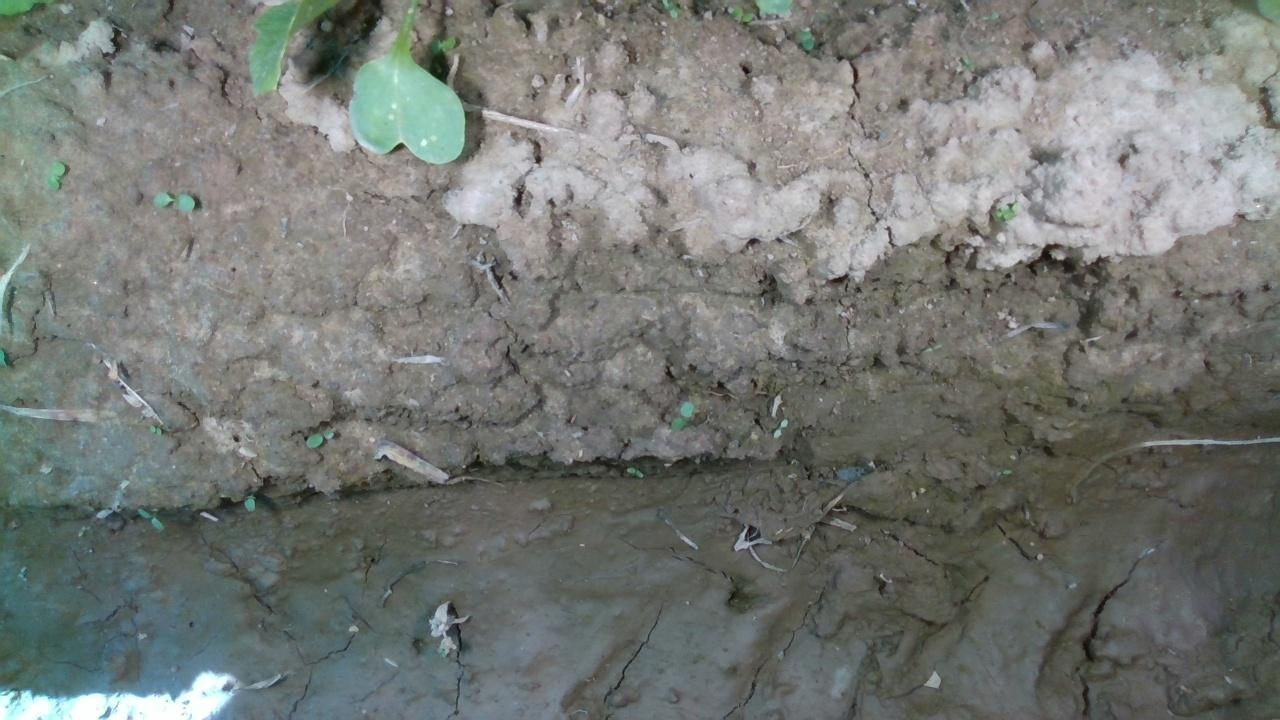weed: (151, 190, 196, 213), (668, 400, 694, 434), (302, 424, 335, 450), (135, 506, 165, 531), (424, 33, 457, 54), (45, 160, 65, 192), (624, 464, 643, 478), (147, 423, 161, 436)
